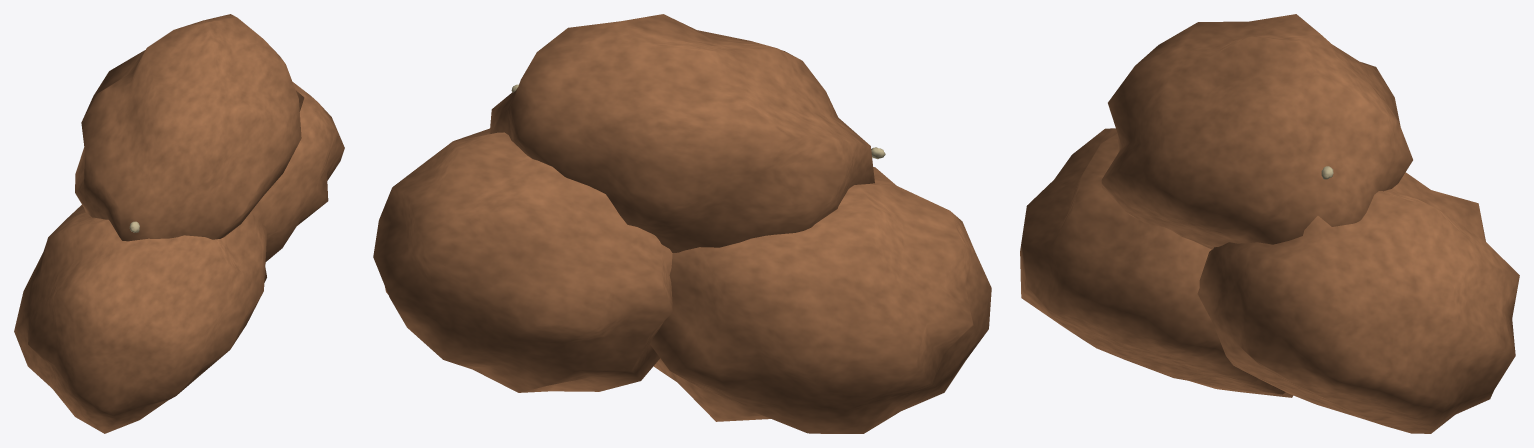
3 renders of one model, left to right at view 1: azimuth 30°, elevation 25°; view 2: azimuth 150°, elevation 25°; view 3: azimuth 270°, elevation 25°, orthographic. The views are drawn at different scales.
Parts seen in each view (by area): view 1: Thumb compressed wet clay; view 2: Thumb compressed wet clay; view 3: Thumb compressed wet clay.
Boxes of the visible parts, <box> form: Thumb compressed wet clay: <box>14,14,344,433</box>; Thumb compressed wet clay: <box>373,14,991,433</box>; Thumb compressed wet clay: <box>1020,14,1519,433</box>.
Size of the model in its own units: 1.28 by 1.02 by 1.08.
Materials: 1 (1 with a texture image).
